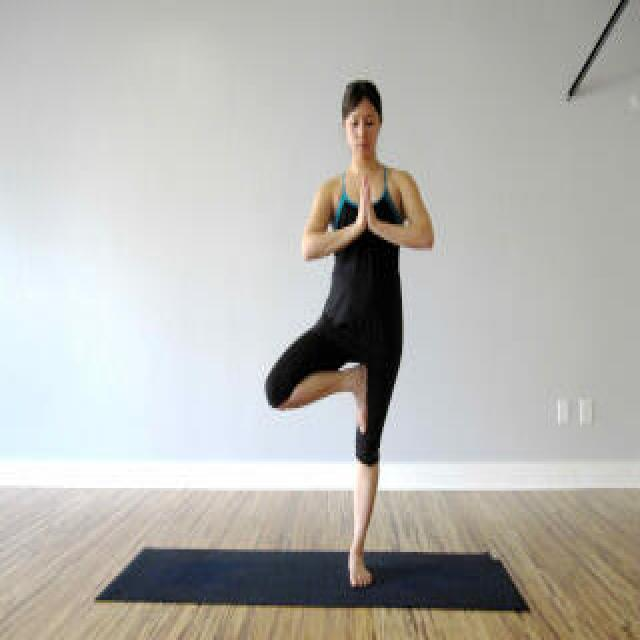yoga-pose tree: (264, 76, 438, 598)
